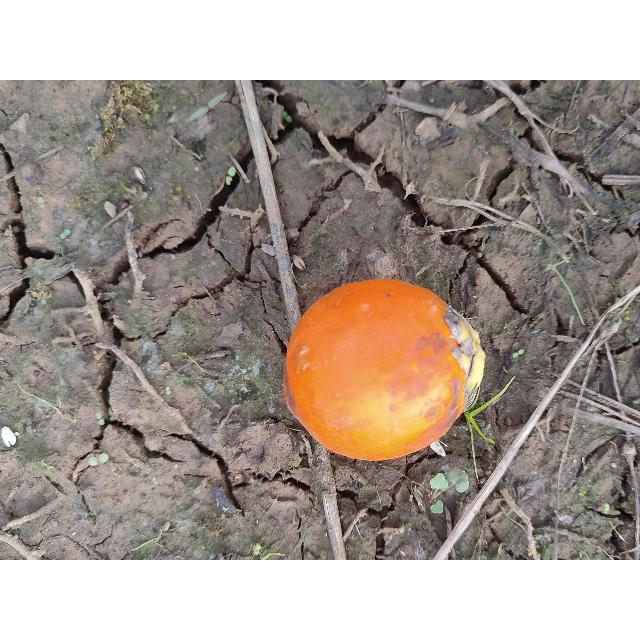good: (284, 279, 484, 464)
